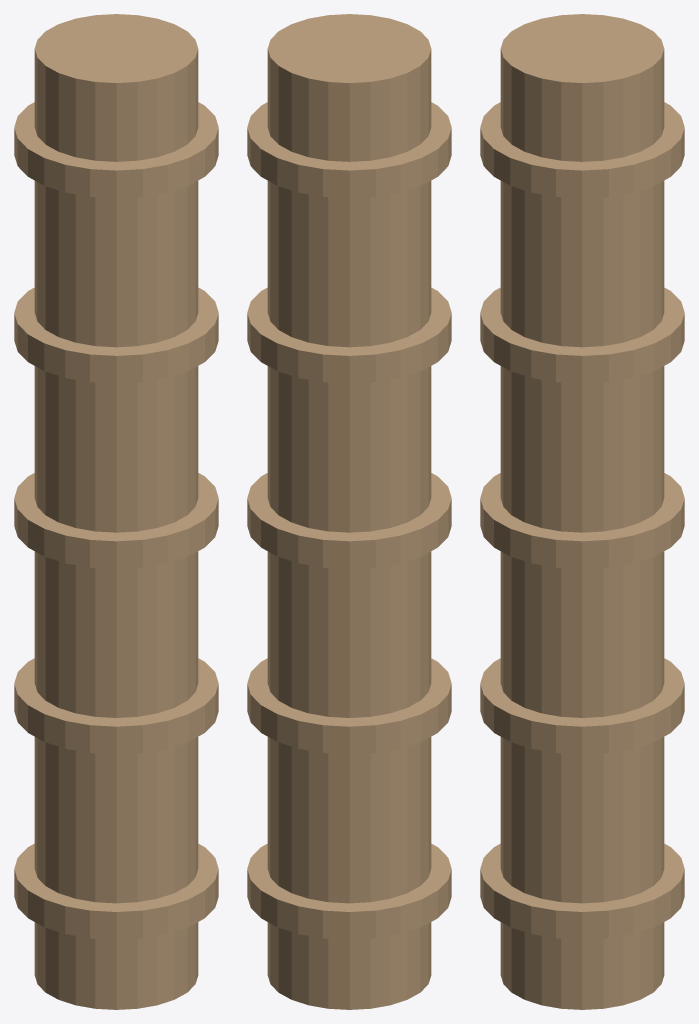
File: ribbed_column_v10.glb
The picture shows the model from 3 angles, left to right: view 1: azimuth 30°, elevation 25°; view 2: azimuth 150°, elevation 25°; view 3: azimuth 270°, elevation 25°; orthographic projection.
Parts seen in each view (by area): view 1: Column; view 2: Column; view 3: Column.
Part boxes in pixels (x1,y1,x2,y2): Column: (14, 14, 218, 1009); Column: (247, 14, 451, 1009); Column: (480, 14, 684, 1009).
Size of the model in its own units: 0.2 by 1 by 0.2.
